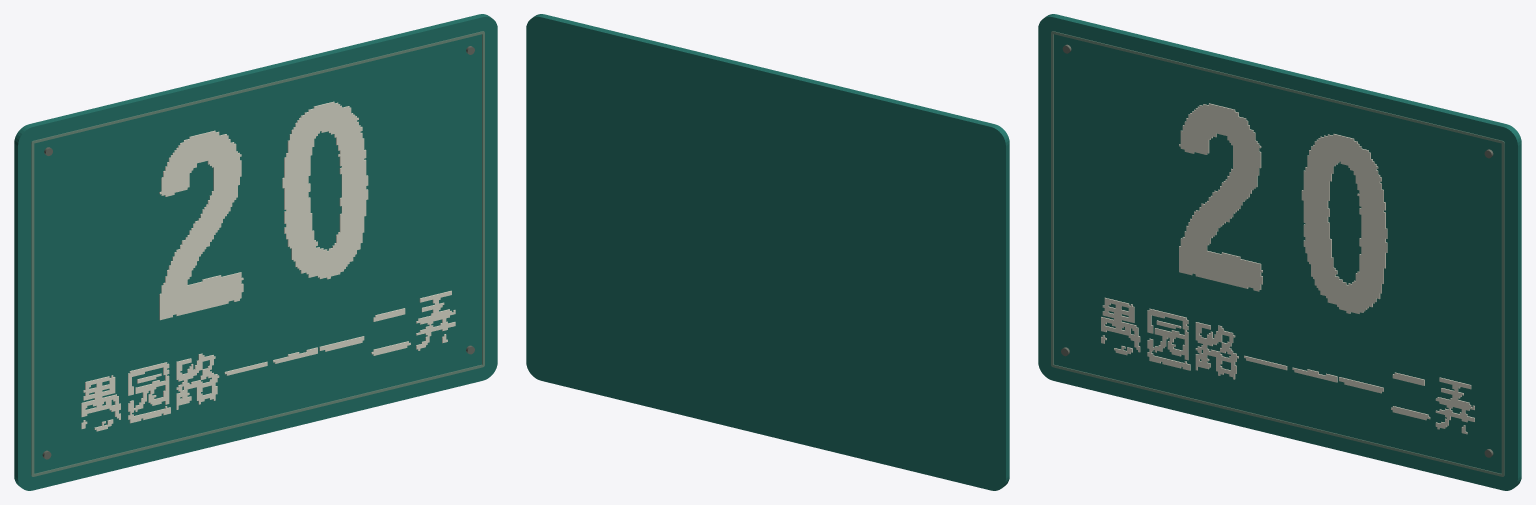
The model's file is number-20-detail.glb.
The picture shows the model from 3 angles, left to right: view 1: azimuth 30°, elevation 25°; view 2: azimuth 150°, elevation 25°; view 3: azimuth 330°, elevation 25°; orthographic projection.
Visible parts, largest first — view 1: 愚园路1112弄20号门牌; view 2: 愚园路1112弄20号门牌; view 3: 愚园路1112弄20号门牌.
Part boxes in pixels (x1,y1,x2,y2): 愚园路1112弄20号门牌: (14, 14, 497, 490); 愚园路1112弄20号门牌: (526, 14, 1009, 490); 愚园路1112弄20号门牌: (1038, 14, 1521, 490).
Size of the model in its own units: 0.29 by 0.21 by 0.0057.
